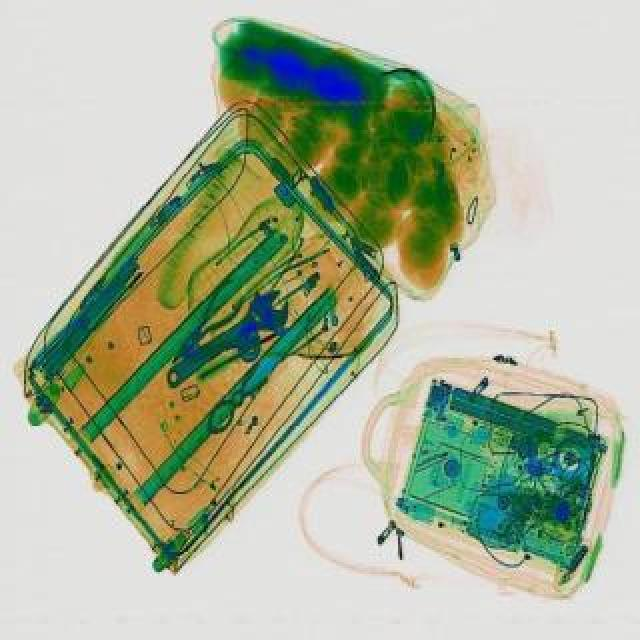scissors: (148, 284, 300, 396)
wrench: (156, 274, 256, 374)
